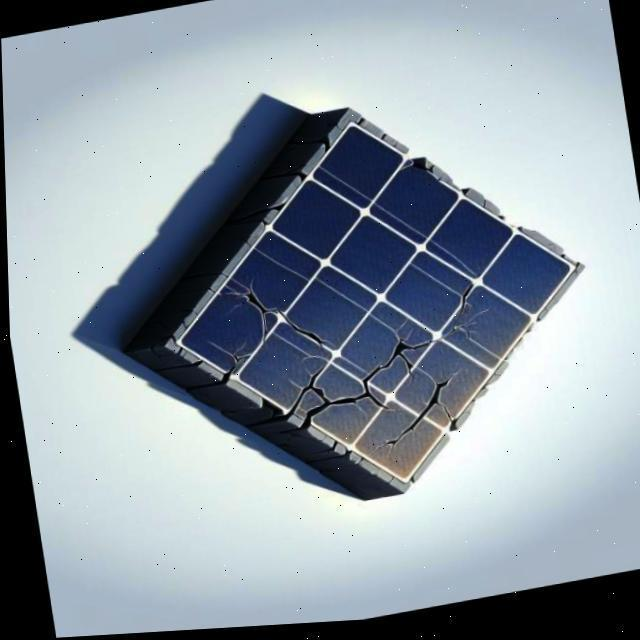Anomaly Solar Panel: (172, 109, 576, 508)
Structural Damage: (278, 286, 513, 464), (214, 269, 328, 379), (369, 369, 476, 485), (218, 342, 257, 380)
